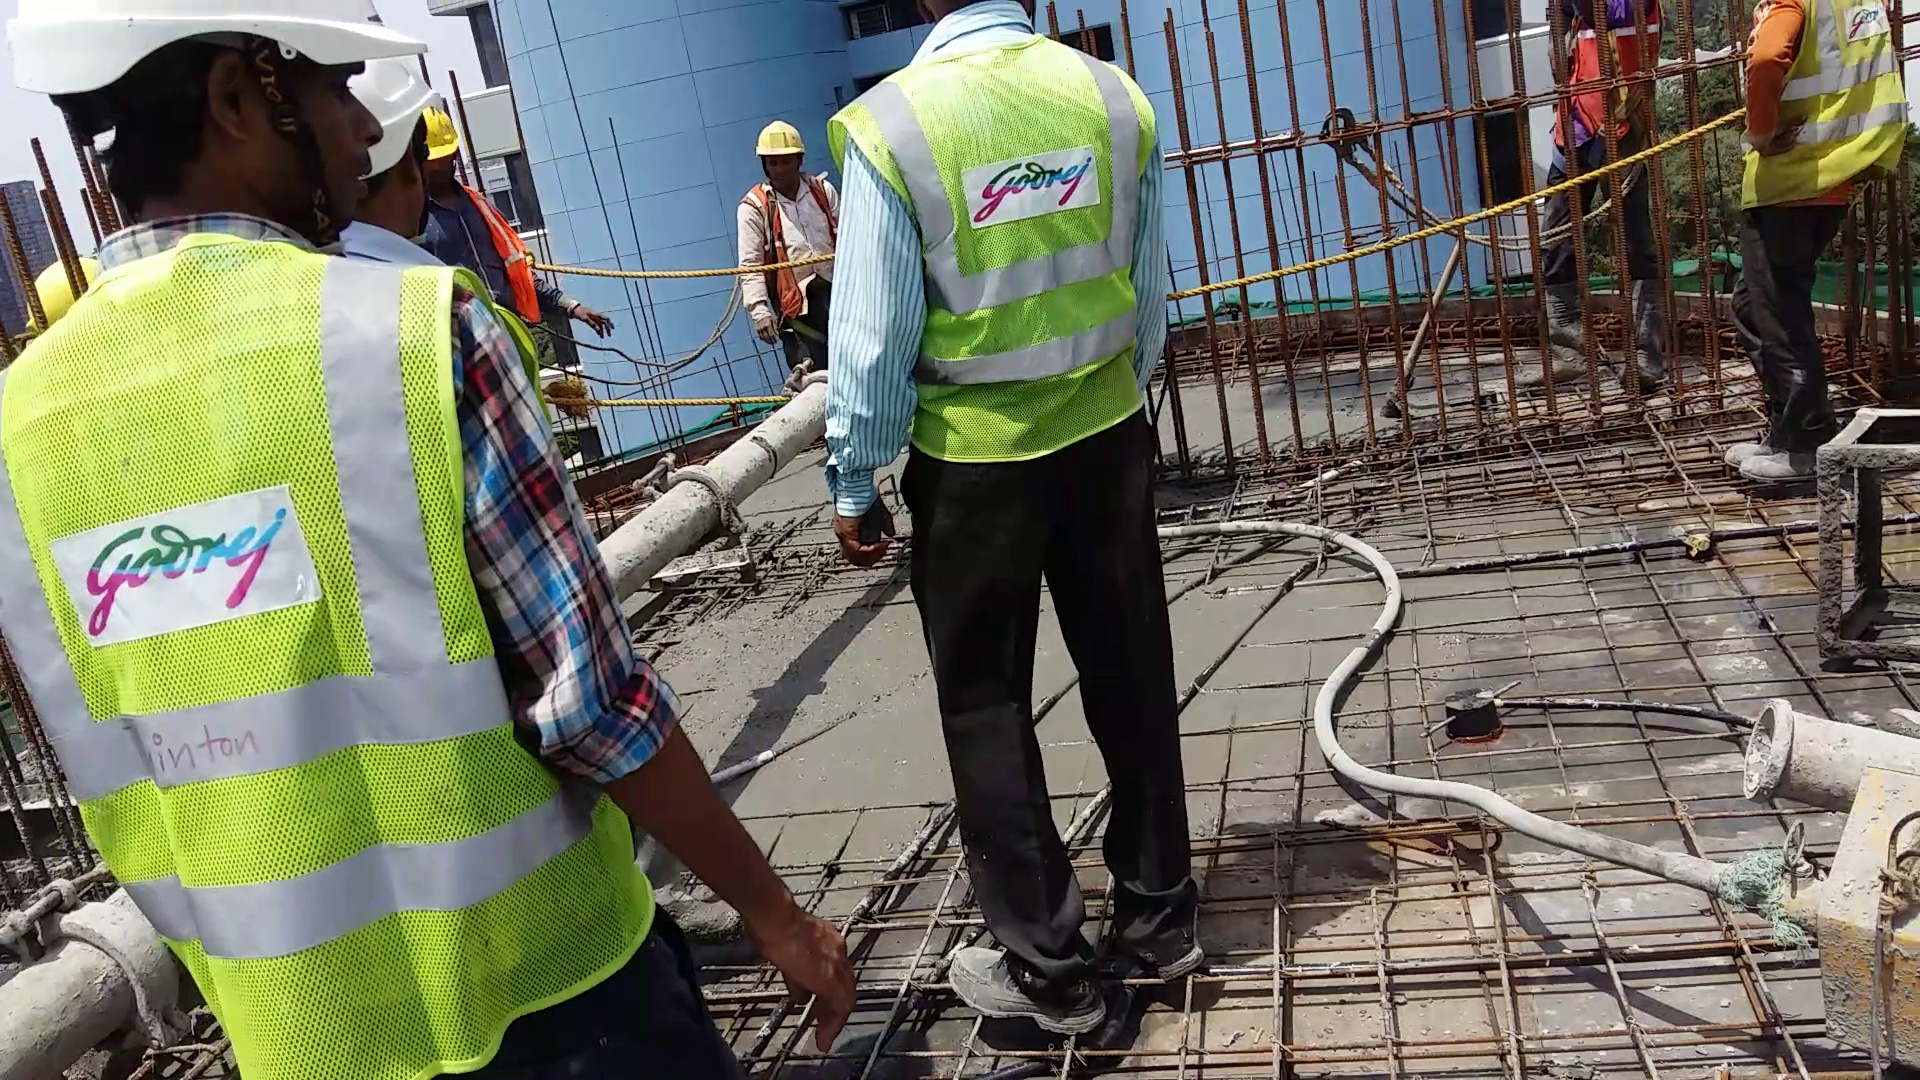SAFE: (3, 22, 642, 1080), (728, 113, 844, 338)
